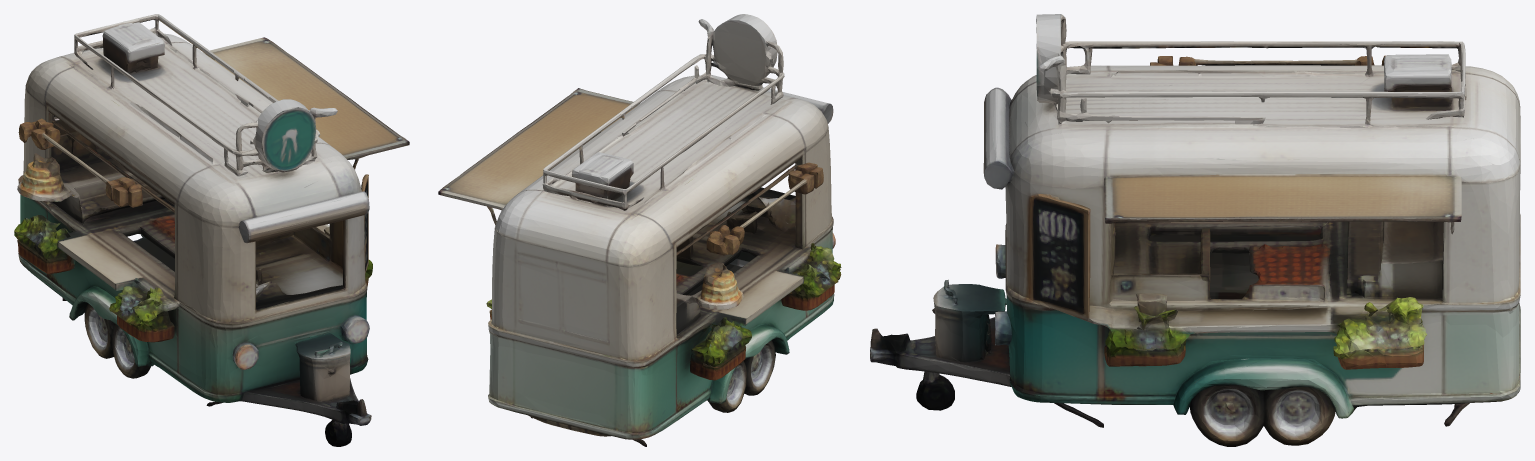
File: food3d.glb
3 renders of one model, left to right at view 1: azimuth 30°, elevation 25°; view 2: azimuth 150°, elevation 25°; view 3: azimuth 270°, elevation 25°, orthographic. The views are drawn at different scales.
Parts seen in each view (by area): view 1: world; view 2: world; view 3: world.
Boxes of the visible parts, left/top/right/bottom form: world: left=14, top=14, right=409, bottom=446; world: left=438, top=14, right=841, bottom=446; world: left=870, top=14, right=1520, bottom=446.
Size of the model in its own units: 0.6087 by 0.6518 by 1.
Materials: 1 (1 with a texture image).
